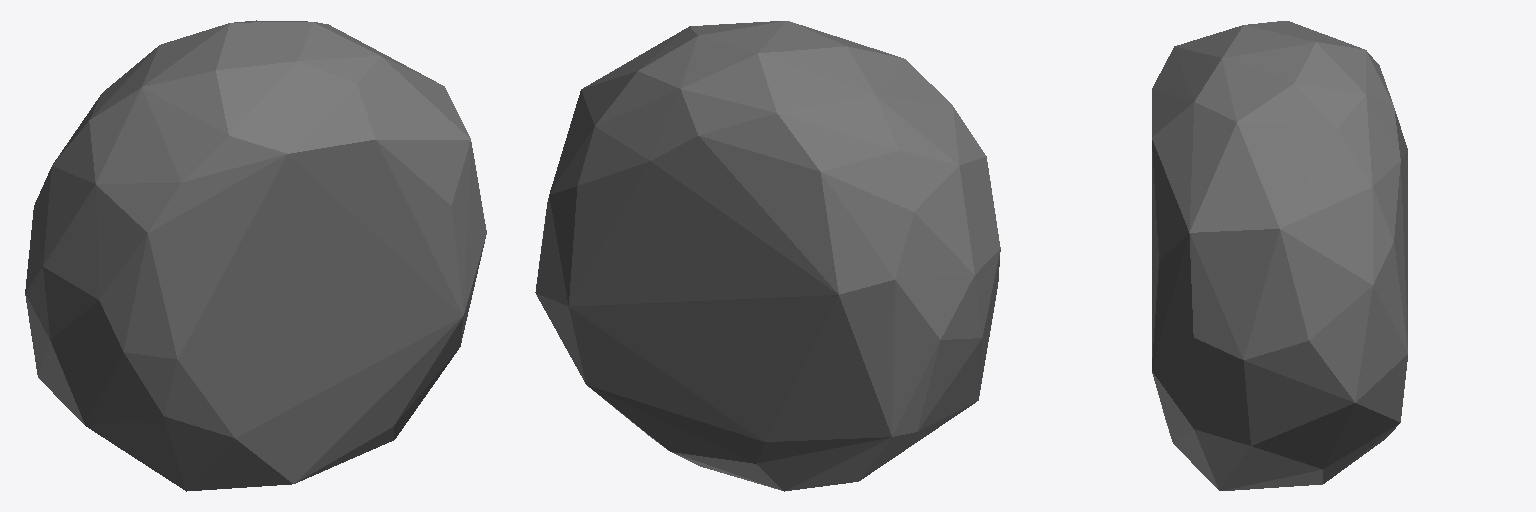
The robot description file, URDF, robot "donut_004":
<?xml version="1.0" ?>
<robot name="donut_004">
  <material name="color">
    <color rgba=".5 .5 .5 1"/>
  </material>

  <link name="base_link">
    <contact>
      <lateral_friction value="1.0"/>
      <rolling_friction value="0.001"/>
      <spinning_friction value="0.001"/>
      <inertia_scaling value="1.0"/>
    </contact>
    <inertial>
      <origin rpy="0 0 0" xyz="7.45355e-06 0.000471549 0.000581973"/>
       <mass value="0.1"/>
       <inertia ixx="1" ixy="0" ixz="0" iyy="1" iyz="0" izz="1"/>
    </inertial>

    <visual>
      <origin rpy="0 0 0" xyz="0 0 0"/>
      <geometry>
        <mesh filename="donut_004_vhacd_0_of_1.obj" scale="1 1 1"/>
      </geometry>
      <material name="color"/>
    </visual>

    <collision>
      <origin rpy="0 0 0" xyz="0 0 0"/>
      <geometry>
        <mesh filename="donut_004_vhacd_0_of_1.obj" scale="1 1 1"/>
      </geometry>
    </collision>

  </link>
</robot>

--- Render facts (derived) ---
Views: 3 orthographic renders of the robot side by side, from view 1: azimuth 30°, elevation 25°; view 2: azimuth 150°, elevation 25°; view 3: azimuth 270°, elevation 25°.
Model donut_004 with 1 links and 0 joints (none), rooted at base_link, posed all joints at 0.
Visible links, largest first — view 1: base_link; view 2: base_link; view 3: base_link.
Link boxes in pixels (bbox=[...]): base_link: bbox=[25, 20, 486, 491]; base_link: bbox=[535, 21, 1000, 491]; base_link: bbox=[1152, 21, 1407, 490].
Size in the robot's own frame: 0.0576 by 0.0317 by 0.0576 metres.
Meshes: 1 distinct files referenced, 1 mesh visuals loaded (1 OBJ).